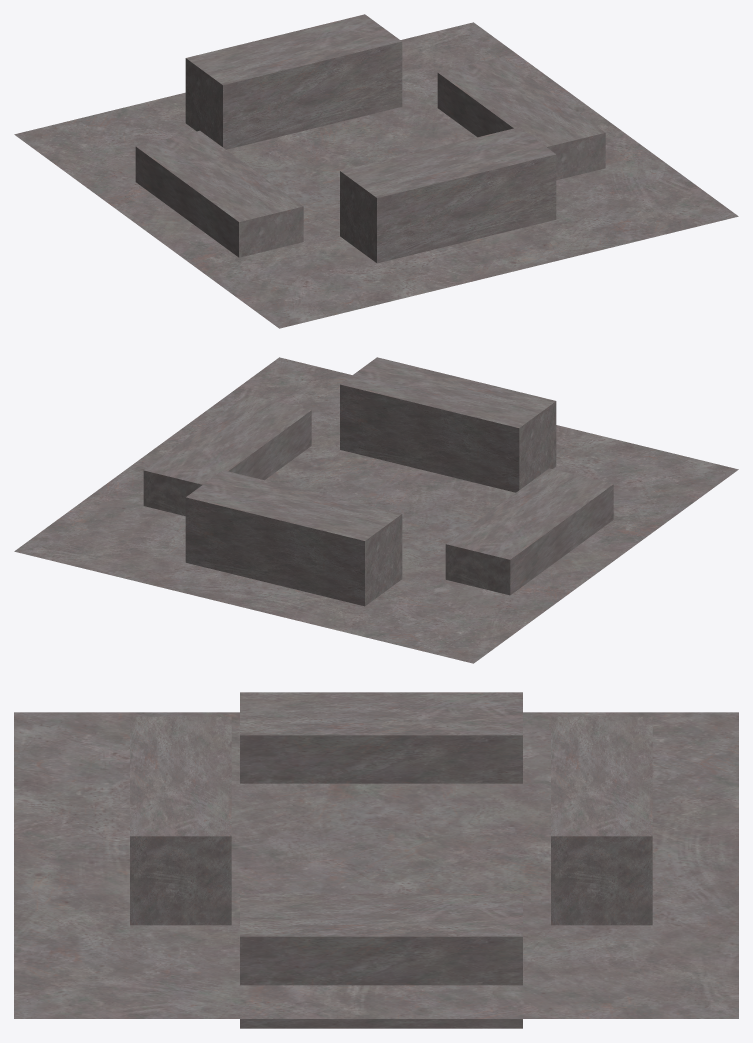
Rendered from map test.fbx.
3 renders of one model, top to bottom at view 1: azimuth 30°, elevation 25°; view 2: azimuth 150°, elevation 25°; view 3: azimuth 270°, elevation 25°, orthographic. The views are drawn at different scales.
Parts seen in each view (by area): view 1: Plane, Cube, Cube.001, Cube.003, Cube.002; view 2: Plane, Cube.001, Cube, Cube.003, Cube.002; view 3: Plane, Cube.002, Cube.003, Cube, Cube.001.
Boxes of the visible parts, bbox=[...] form: Plane: bbox=[14, 22, 738, 328]; Cube: bbox=[340, 127, 556, 263]; Cube.001: bbox=[185, 14, 402, 149]; Cube.003: bbox=[135, 130, 303, 257]; Cube.002: bbox=[437, 57, 605, 180]; Plane: bbox=[14, 357, 738, 663]; Cube.001: bbox=[185, 470, 402, 606]; Cube: bbox=[340, 357, 556, 492]; Cube.003: bbox=[445, 468, 613, 595]; Cube.002: bbox=[143, 394, 311, 515]; Plane: bbox=[14, 712, 738, 1018]; Cube.002: bbox=[240, 893, 522, 1028]; Cube.003: bbox=[240, 692, 522, 783]; Cube: bbox=[130, 716, 231, 925]; Cube.001: bbox=[551, 716, 652, 925].
Size of the model in its own units: 1426 by 288 by 1426.
Materials: 1 (1 with a texture image).
